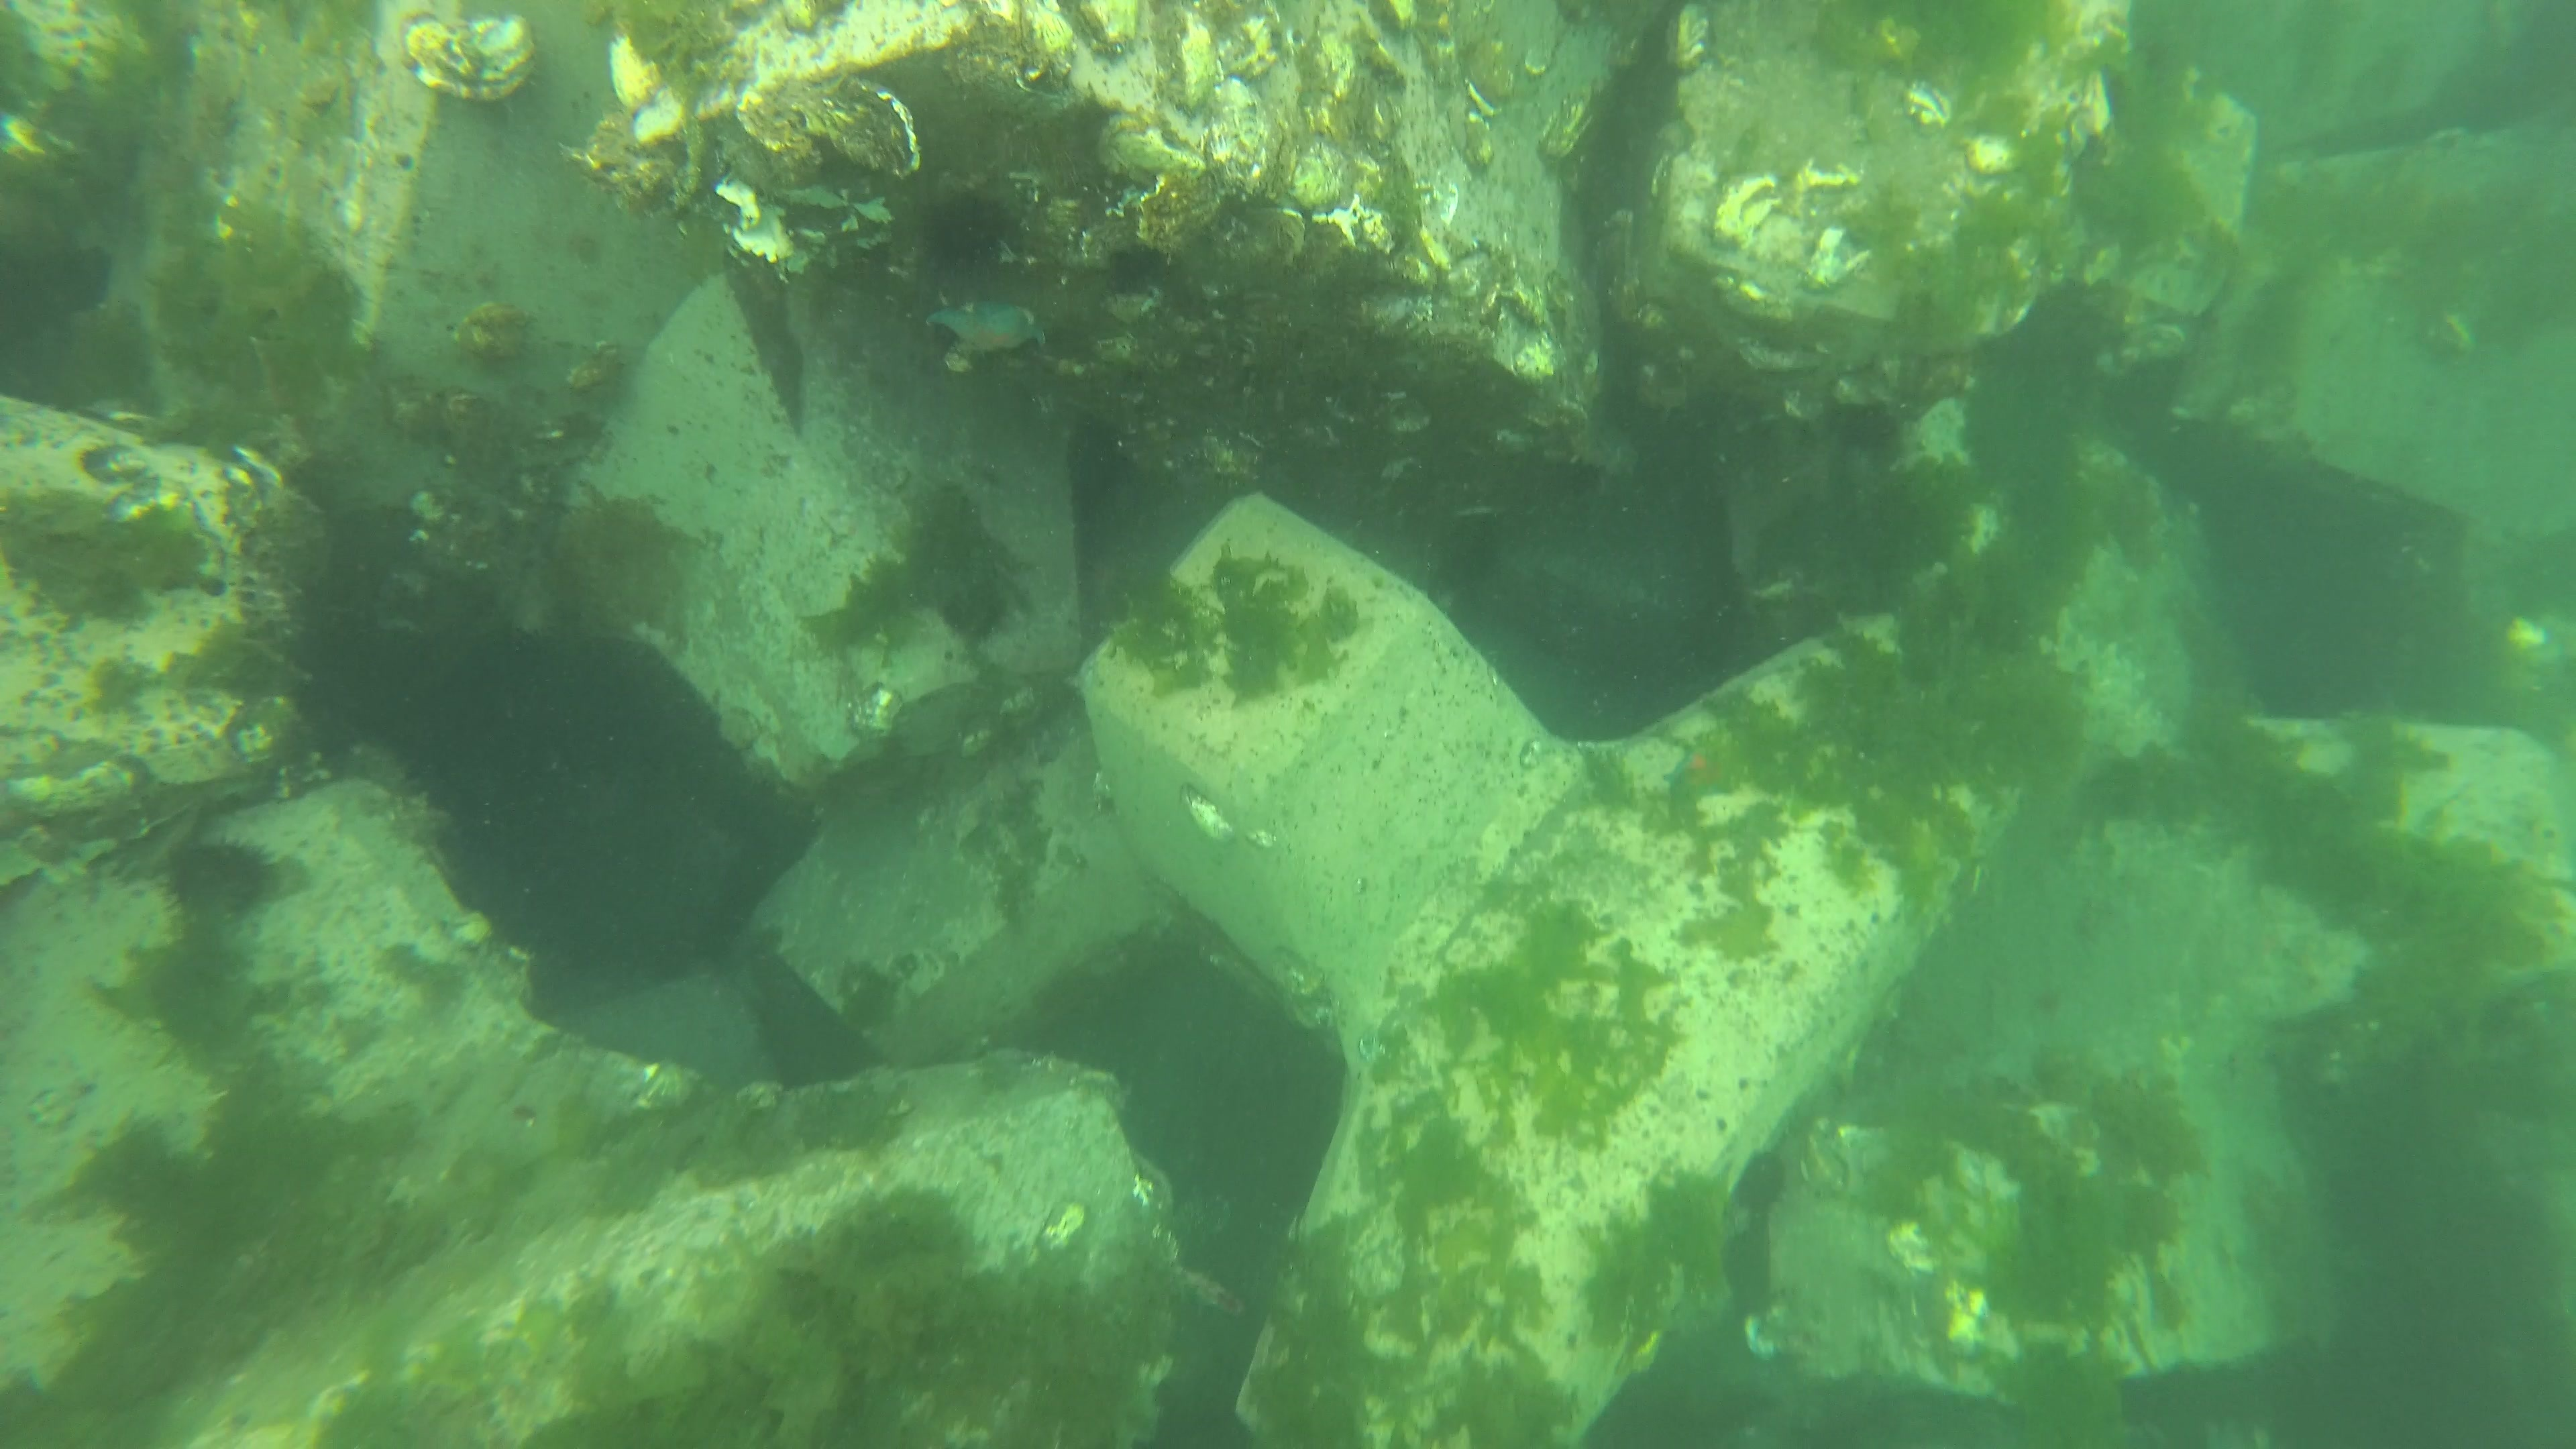echinus: (159, 828, 278, 927), (920, 193, 1028, 280), (938, 579, 1014, 648), (1737, 1146, 1801, 1205), (1104, 242, 1168, 299), (1836, 402, 1895, 455)
starfish: (924, 299, 1049, 357)
